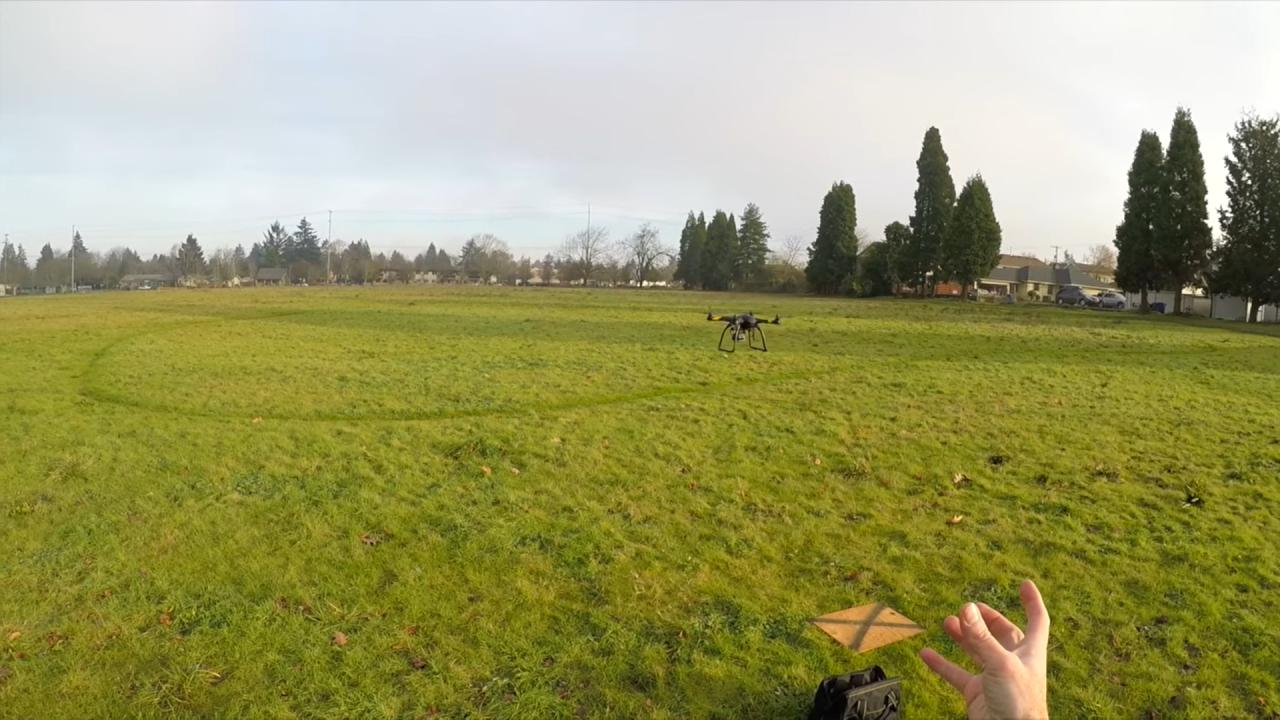Drone: (696, 303, 793, 362)
